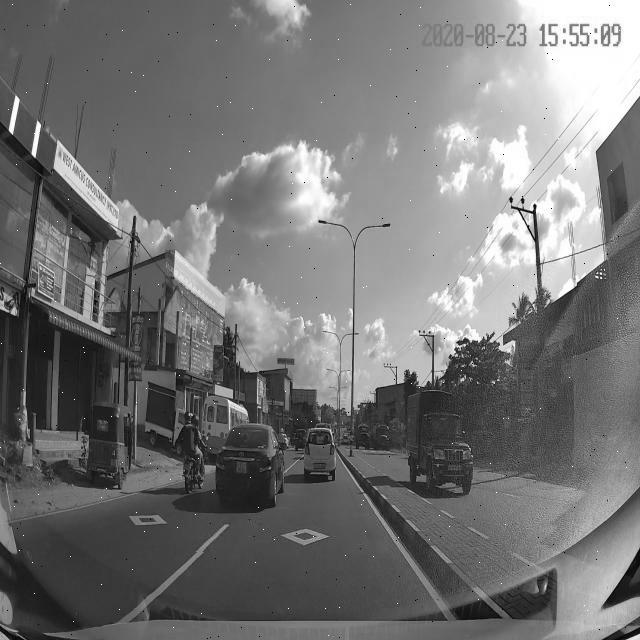diamond: (194, 513, 410, 552)
